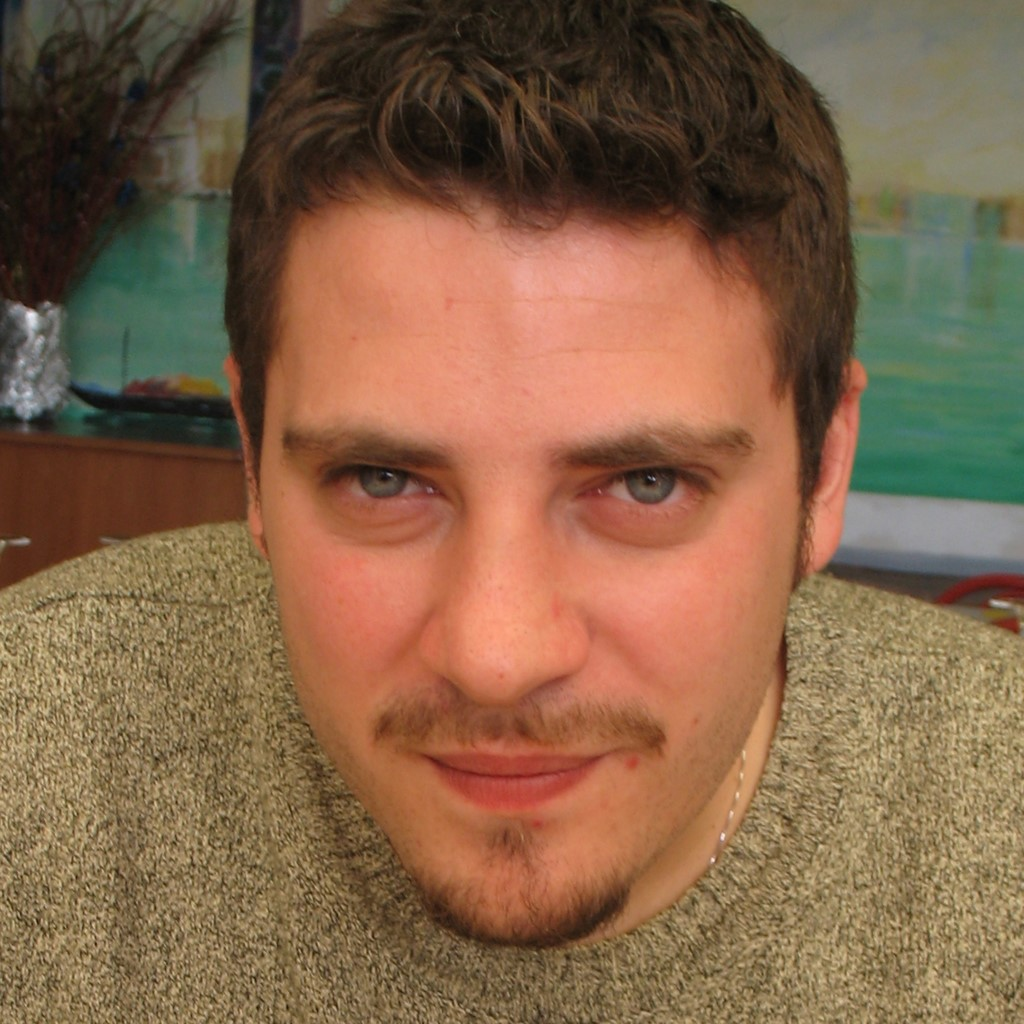sin_mascara: (217, 28, 858, 951)
